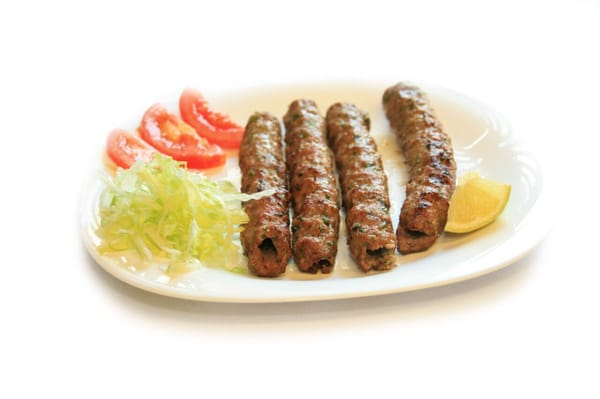burger: (381, 83, 457, 254), (325, 101, 398, 273), (284, 102, 341, 276)
curry: (11, 11, 599, 392)
